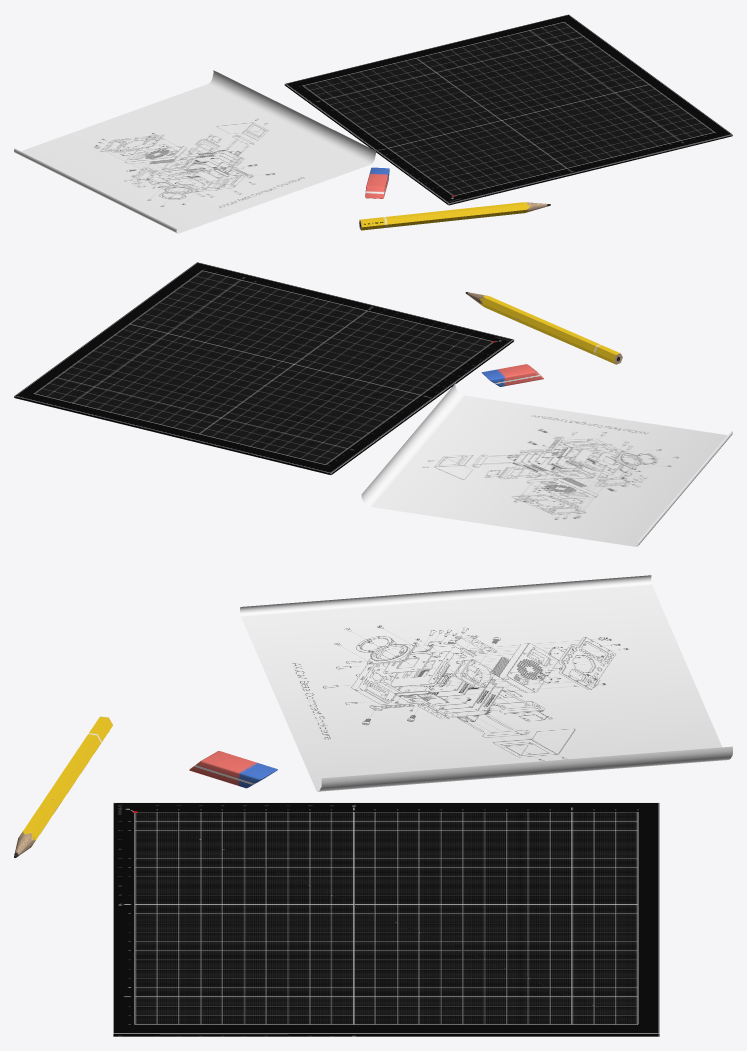
File: environment_V02.gltf
3 renders of one model, top to bottom at view 1: azimuth 30°, elevation 25°; view 2: azimuth 150°, elevation 25°; view 3: azimuth 270°, elevation 25°, orthographic. The views are drawn at different scales.
Visible parts, largest first — view 1: measurement pad, Plane, pencil, eraser; view 2: measurement pad, Plane, pencil, eraser; view 3: measurement pad, Plane, pencil, eraser.
Part boxes in pixels (bbox=[...]): measurement pad: bbox=[284, 14, 732, 205]; Plane: bbox=[14, 70, 375, 233]; pencil: bbox=[359, 202, 550, 230]; eraser: bbox=[365, 167, 389, 198]; measurement pad: bbox=[14, 262, 514, 475]; Plane: bbox=[361, 383, 732, 546]; pencil: bbox=[465, 292, 622, 364]; eraser: bbox=[481, 364, 543, 386]; measurement pad: bbox=[113, 802, 659, 1036]; Plane: bbox=[240, 575, 732, 791]; pencil: bbox=[14, 716, 112, 857]; eraser: bbox=[189, 751, 277, 788].
Size of what is drawn, in the model's own units: 0.4903 by 0.00952 by 0.3286.
